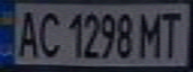1: (63, 8, 84, 59)
2: (81, 8, 100, 60)
8: (115, 9, 139, 60)
9: (100, 9, 118, 60)
A: (12, 7, 42, 60)
C: (33, 7, 63, 60)
M: (136, 8, 166, 60)
T: (154, 7, 187, 58)
